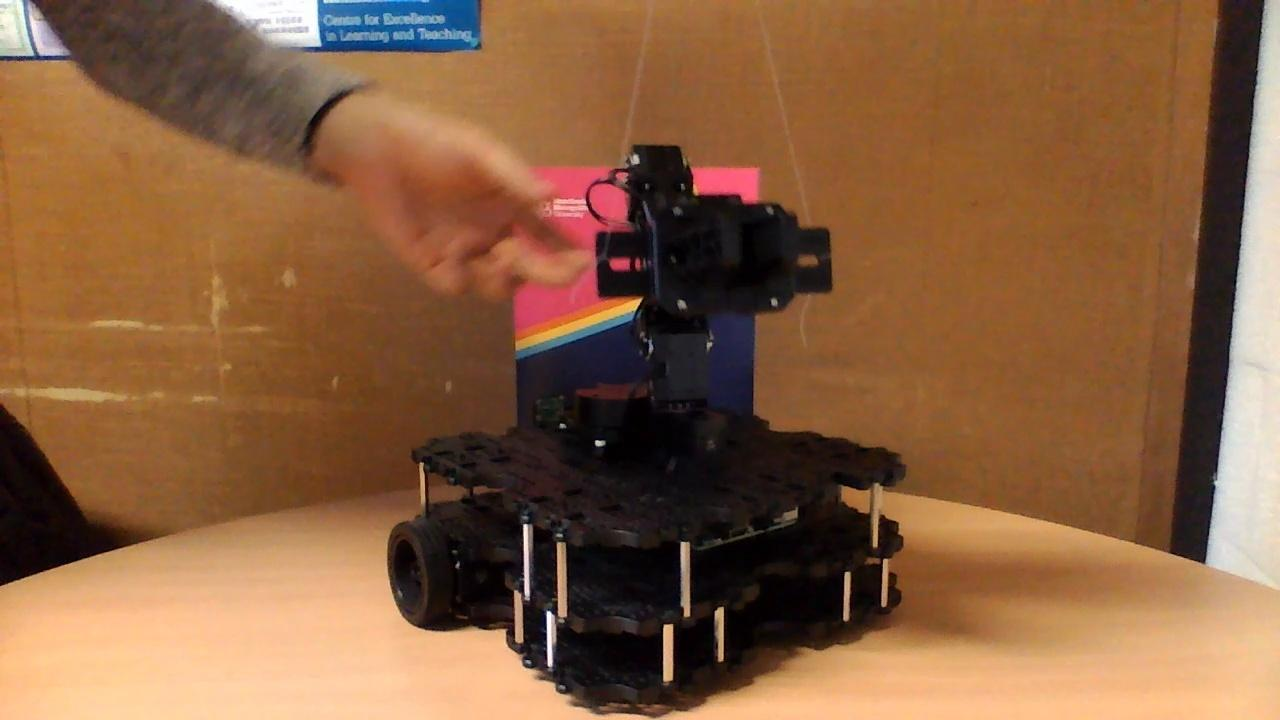Arm: (615, 140, 713, 383)
Hand: (596, 191, 836, 322)
base: (383, 378, 909, 706)
